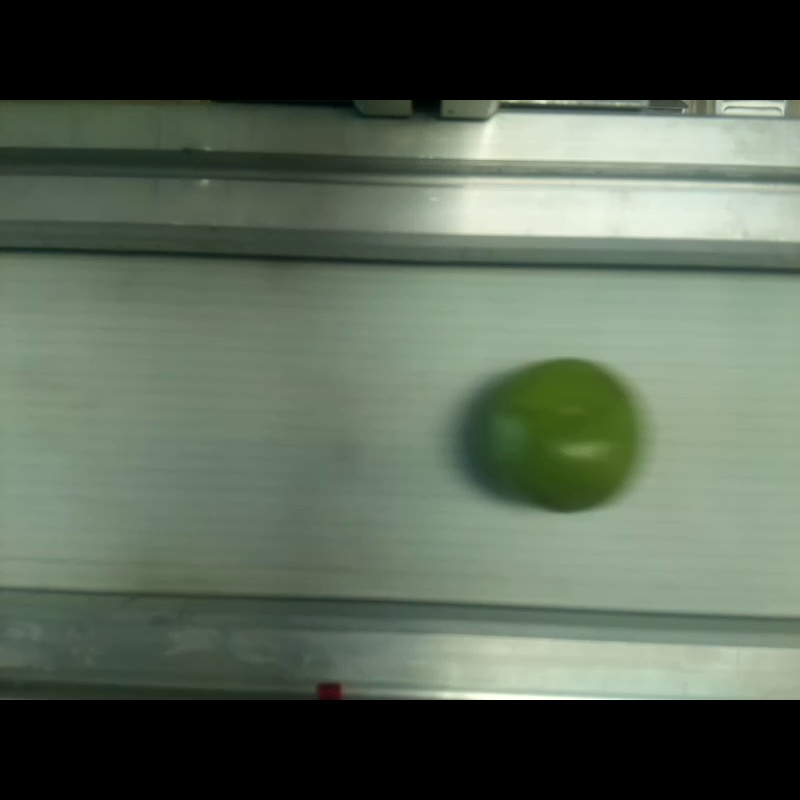lime: (476, 361, 634, 512)
